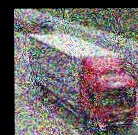truck: (25, 32, 138, 135)
